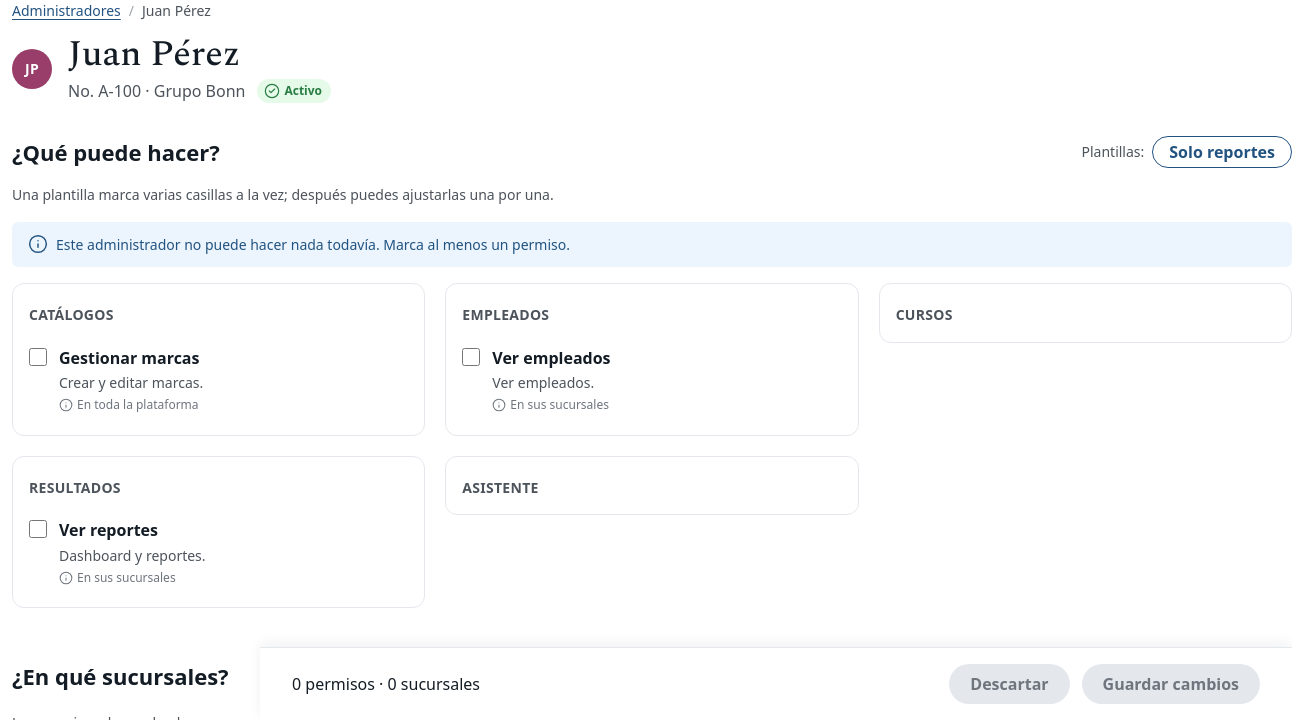
Test: Administradores y permisos › marca permisos con una plantilla y casillas, elige sucursales agrupadas por empresa y guarda todo junto (RF-00.8)
Click the button "Solo reportes". click: (1222, 152)
box: x1=1152 y1=136 x2=1292 y2=168
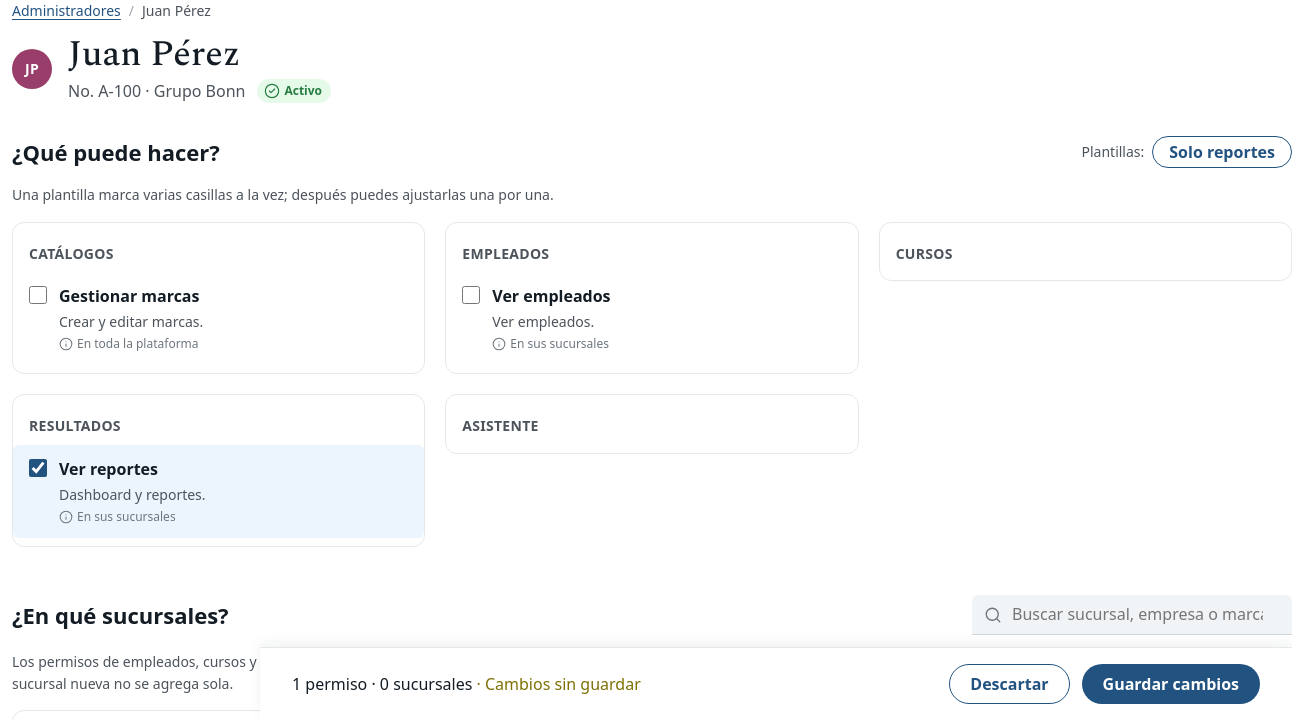
Click the checkbox labelled "Ver empleados Ver empleados. En sus sucursales". click: (471, 295)
box: x1=462 y1=286 x2=480 y2=304
(page scrolled)
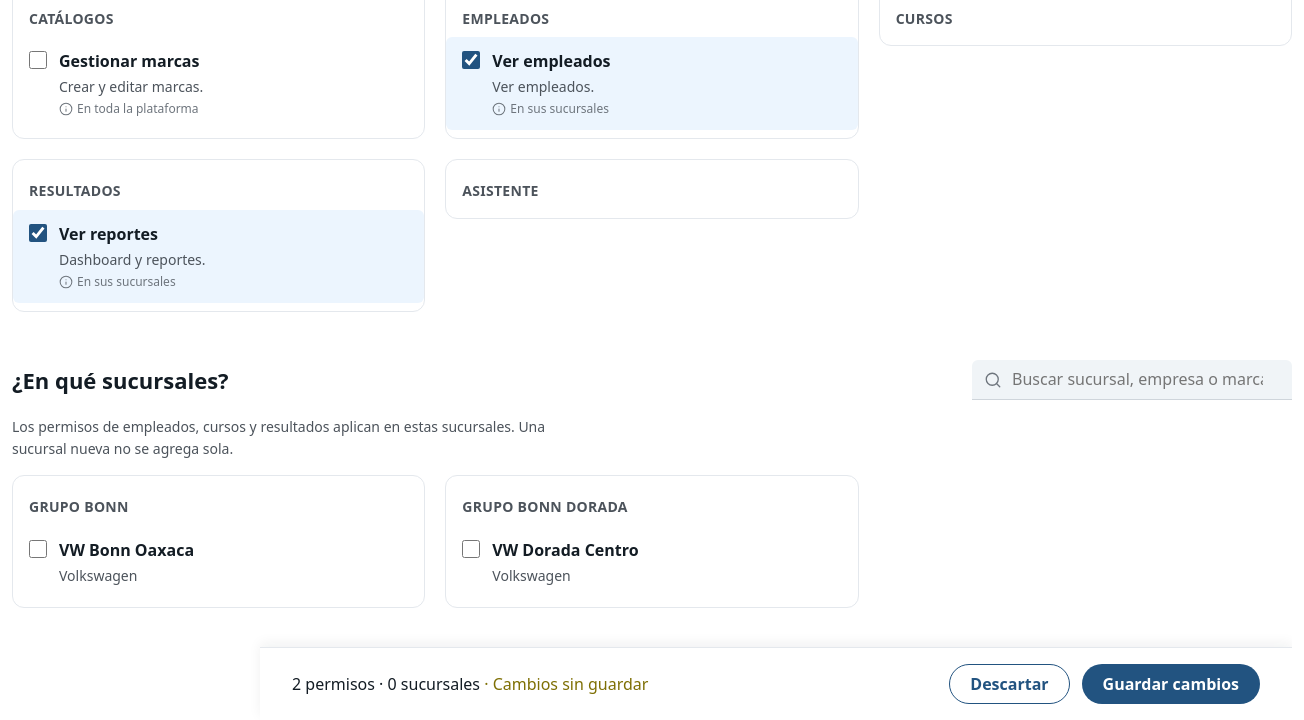
Expected: the element "Grupo Bonn Dorada" is shown, x1=445 y1=476 x2=859 y2=608
Click the checkbox labelled "VW Dorada Centro Volkswagen". click: (471, 549)
box: x1=462 y1=540 x2=480 y2=558
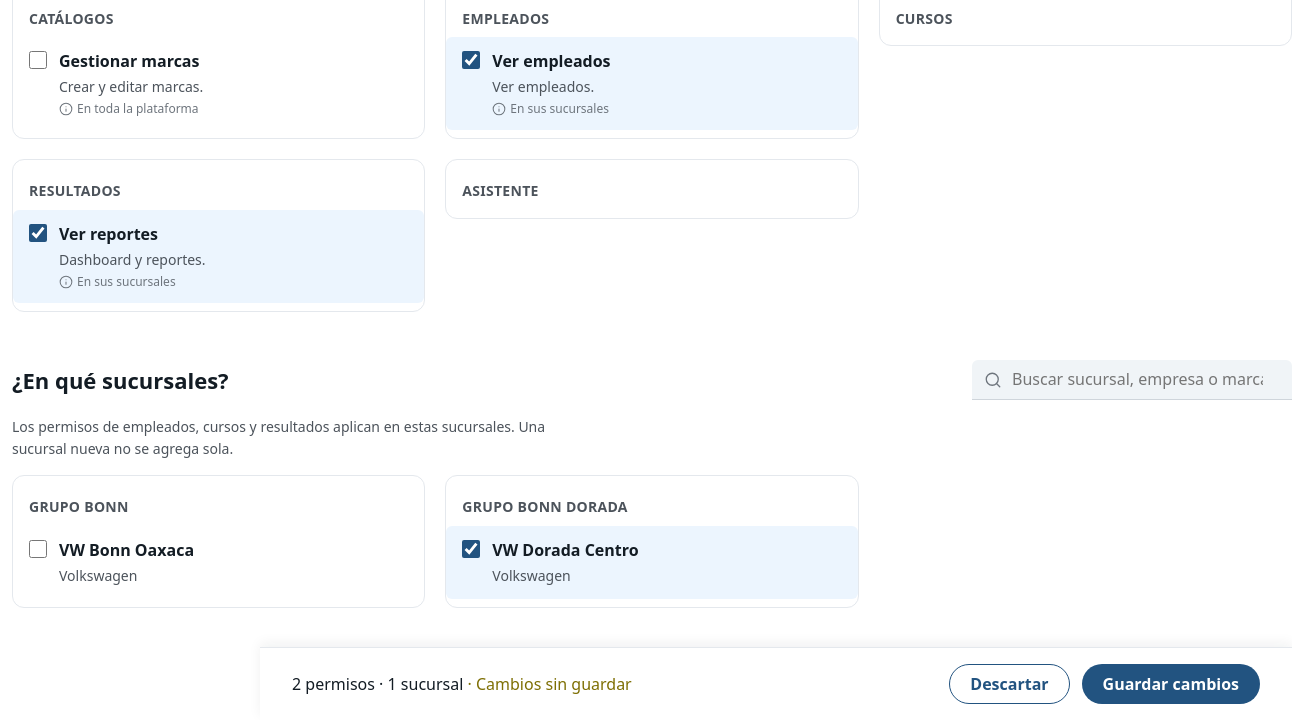
Expected: the text "· Cambios sin guardar" is shown, x1=463 y1=673 x2=632 y2=695
Click the button "Guardar cambios". click: (1171, 684)
box: x1=1082 y1=664 x2=1260 y2=704
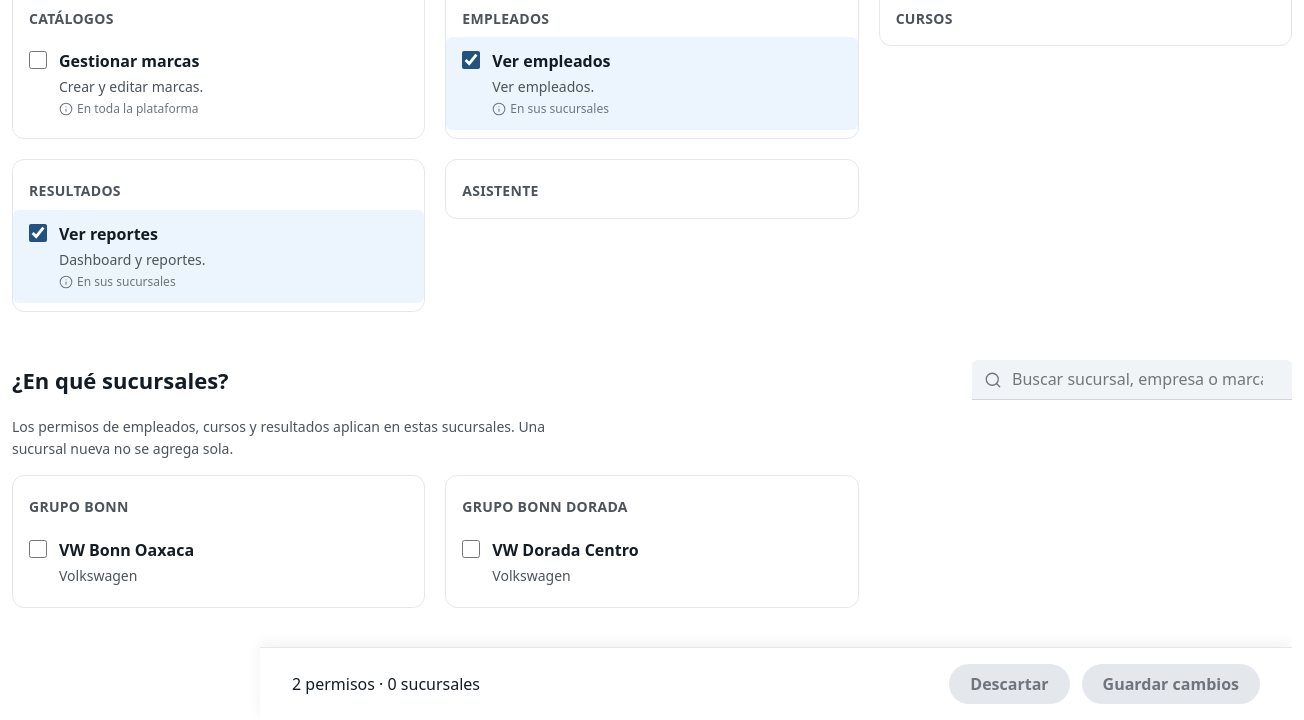
Expected: the text "2 permisos · 0 sucursales" is shown, x1=292 y1=672 x2=480 y2=696
